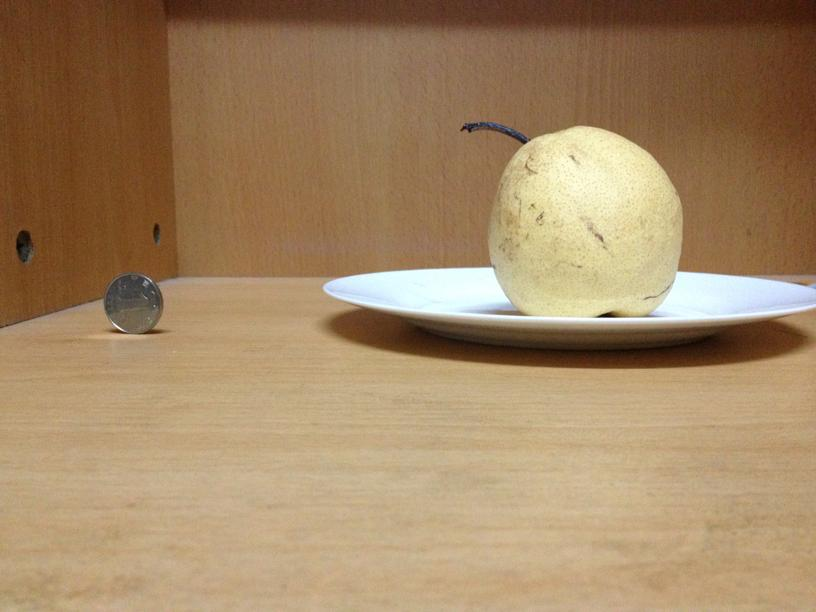coin: (103, 271, 161, 335)
pear: (489, 125, 683, 315)
